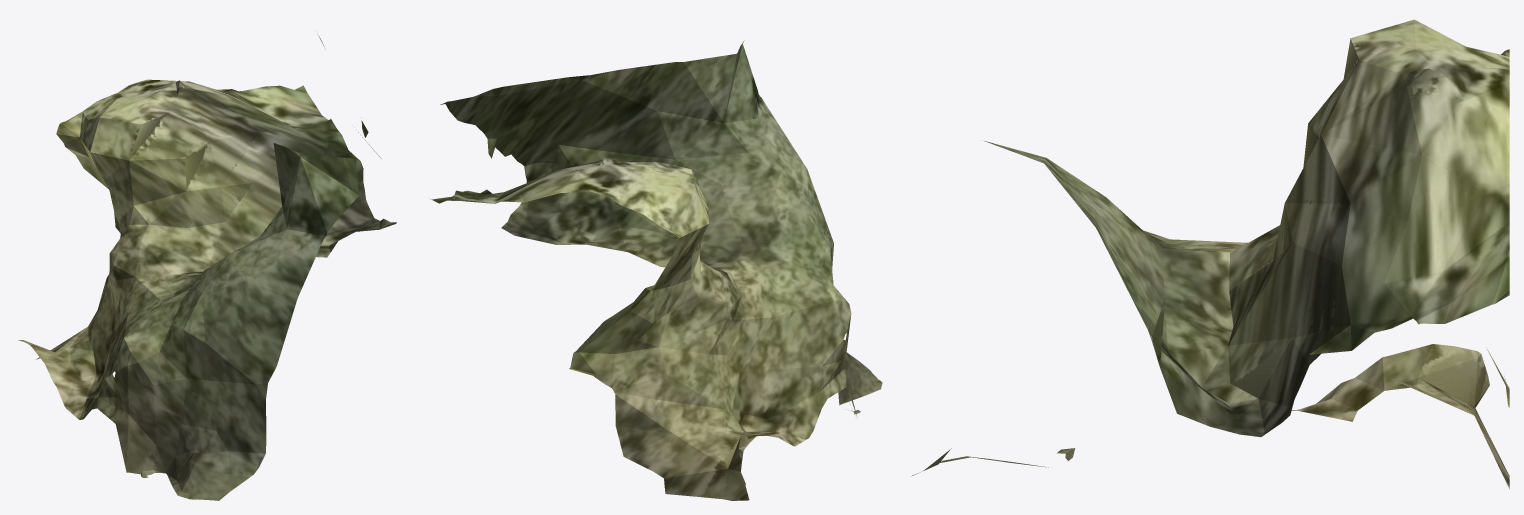
3 renders of one model, left to right at view 1: azimuth 30°, elevation 25°; view 2: azimuth 150°, elevation 25°; view 3: azimuth 270°, elevation 25°, orthographic. The views are drawn at different scales.
Bounding box in the file's own units: 2.95 × 2.95 × 2.95.
Materials: 5 (5 with a texture image).
